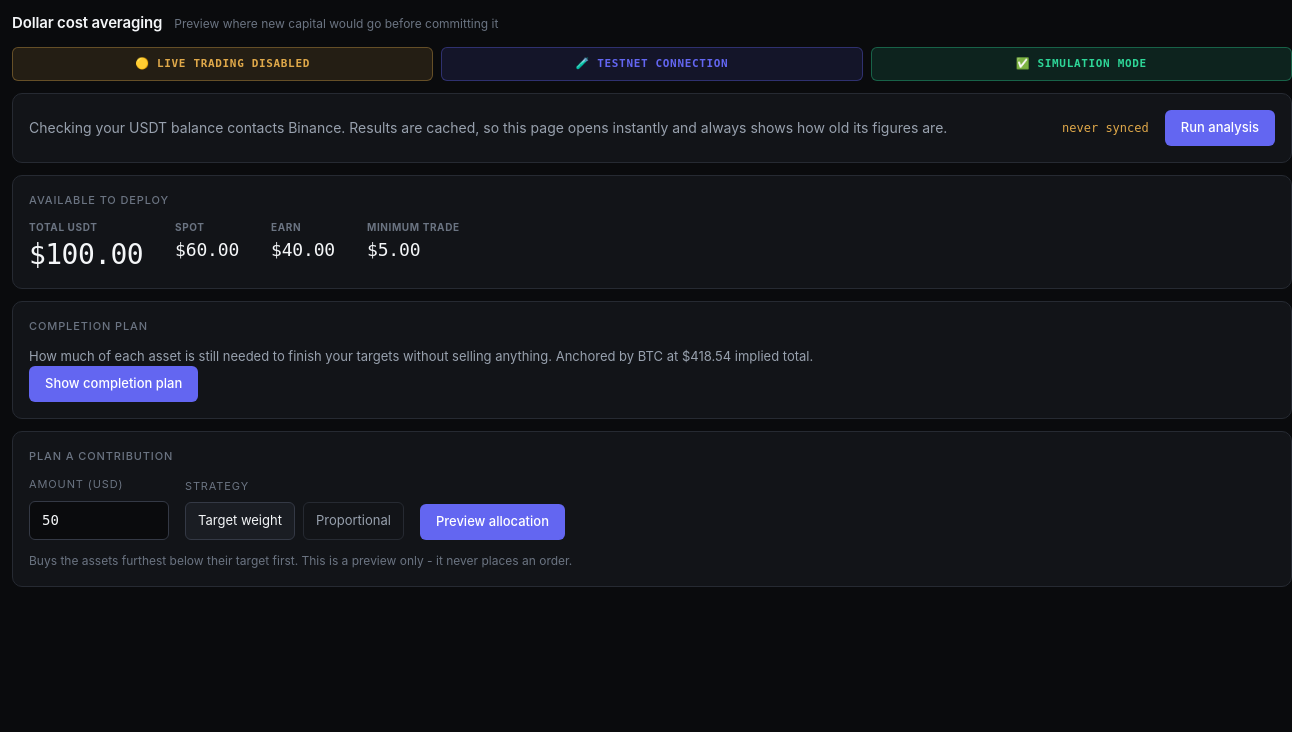
Test: Dca preview pending state › disables the button and swaps the label while the preview is in flight
The width and height of the screenshot is (1292, 732).
What coordinates should you click on to do the following:
click the button "Preview allocation"
I would click on:
 (492, 522)
Its box is x1=420 y1=504 x2=565 y2=540.
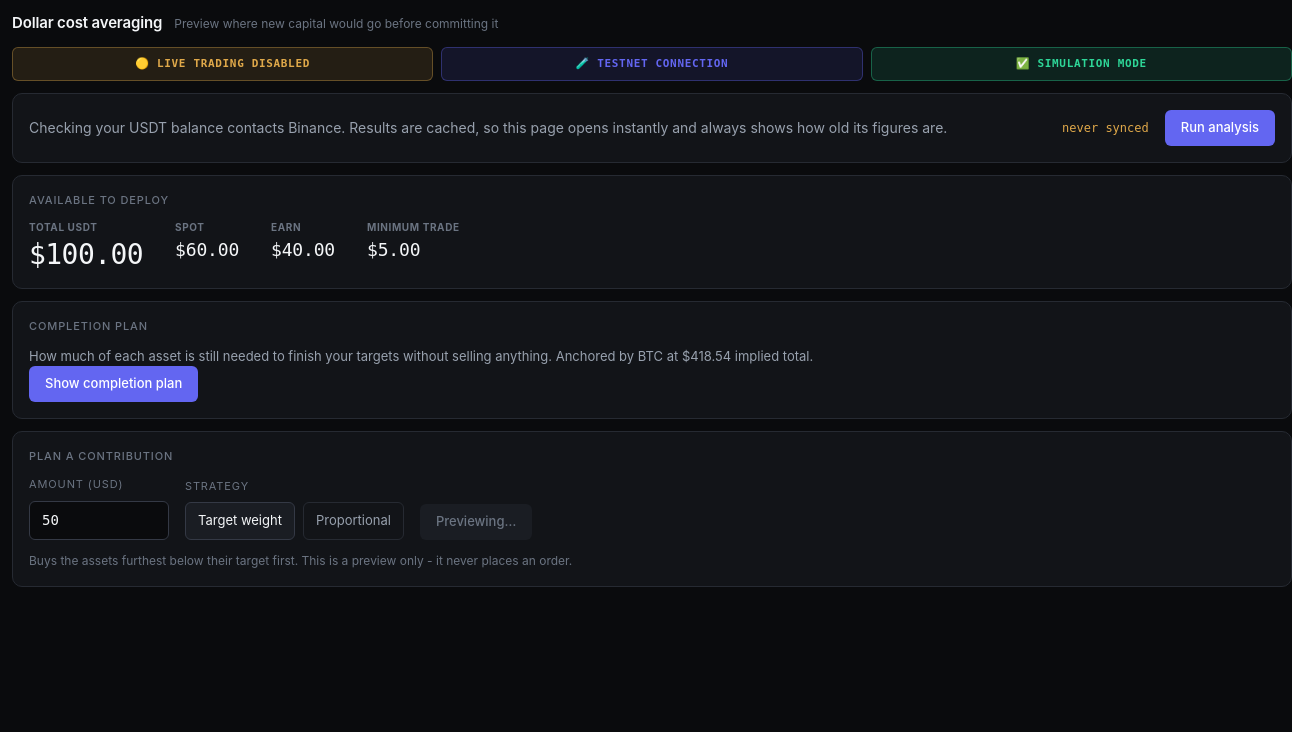
Expected: the button "Previewing…" is disabled, x1=420 y1=504 x2=532 y2=540
